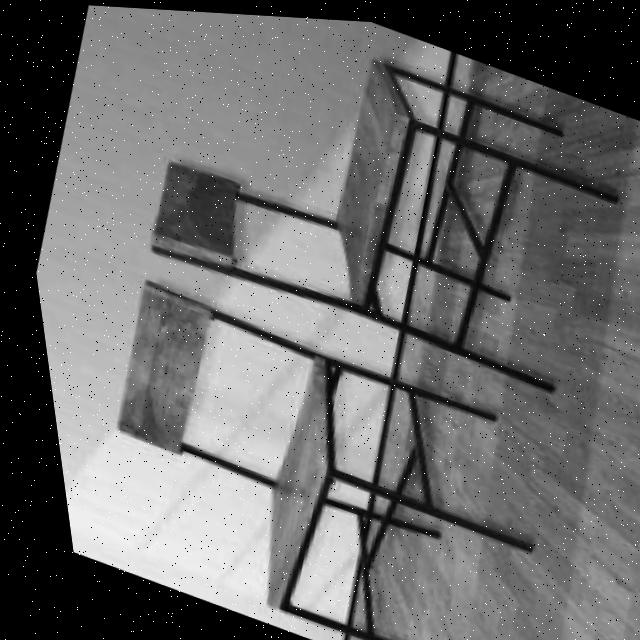sandalye: (110, 5, 640, 408), (43, 272, 569, 640)
